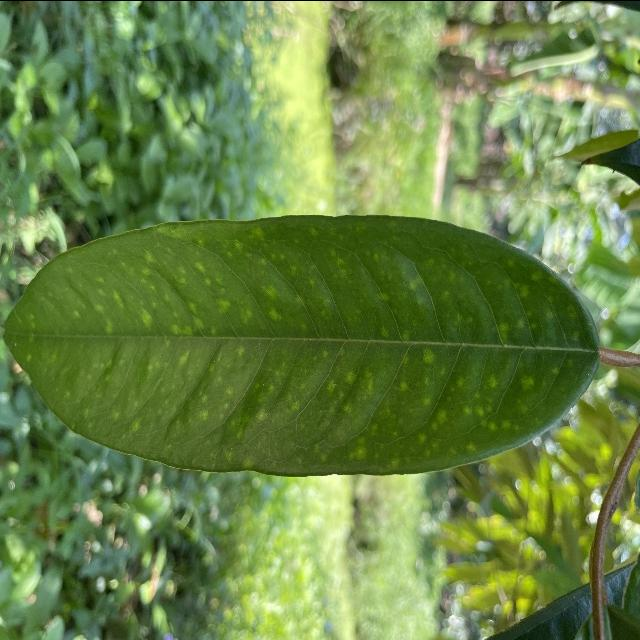Leaf Spot: (0, 199, 613, 485)
